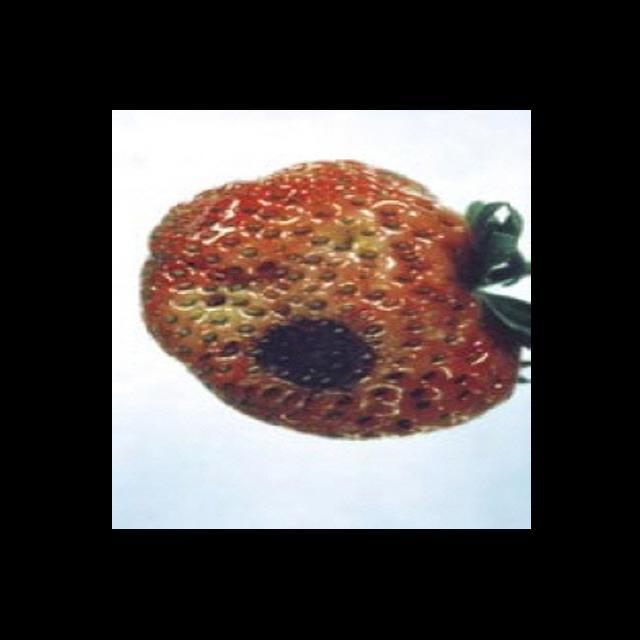Anthracnose Fruit Rot: (250, 314, 378, 395)
